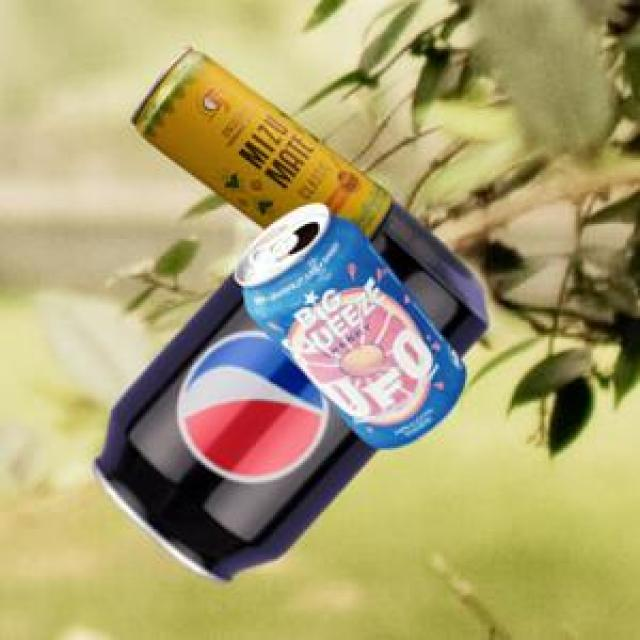logam: (91, 197, 485, 579), (231, 202, 462, 445), (129, 44, 391, 242)
